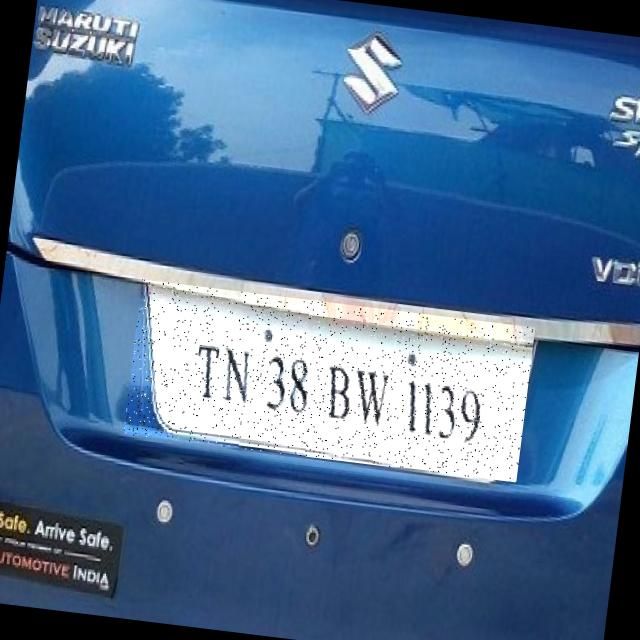Plate: (124, 280, 536, 483)
